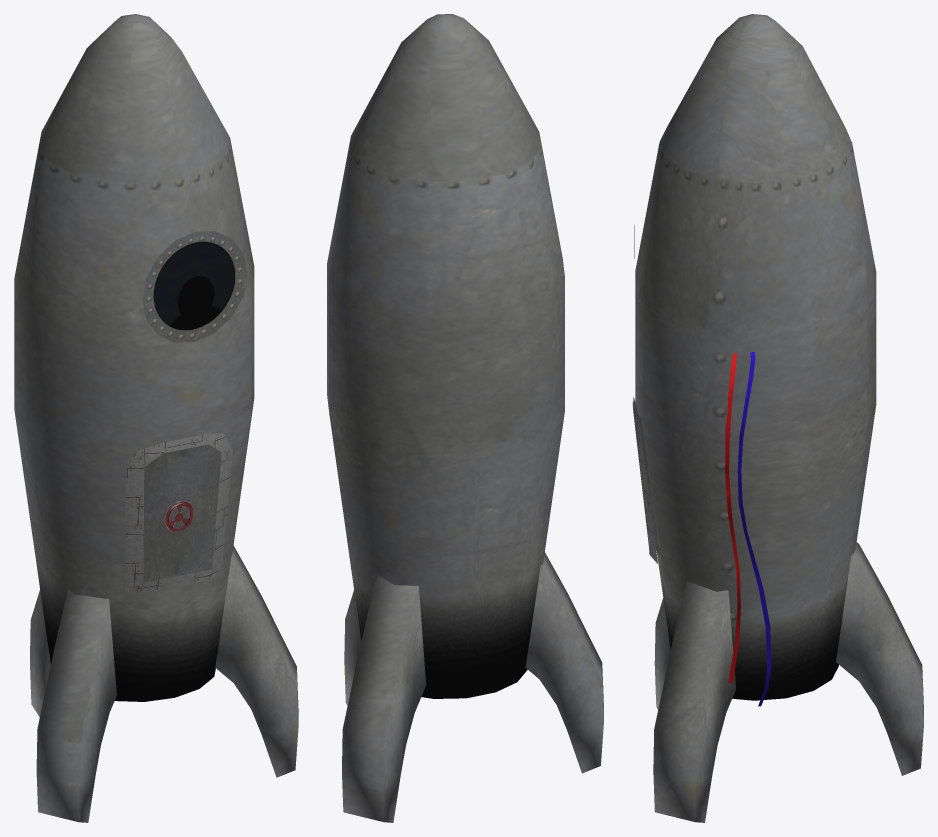
The model's file is rocket_lo.glb.
3 renders of one model, left to right at view 1: azimuth 30°, elevation 25°; view 2: azimuth 150°, elevation 25°; view 3: azimuth 270°, elevation 25°, orthographic.
Parts seen in each view (by area): view 1: shipthing2.png__, door.JPG__, window.jpg__, metaloverlap.png__; view 2: shipthing2.png__; view 3: shipthing2.png__, wires.jpg__, metaloverlap.png__.
Part boxes in pixels (x1,y1,x2,y2): shipthing2.png__: (14, 14, 298, 822); door.JPG__: (134, 444, 221, 582); window.jpg__: (142, 231, 247, 342); metaloverlap.png__: (125, 433, 232, 592); shipthing2.png__: (327, 14, 603, 822); shipthing2.png__: (635, 14, 923, 822); wires.jpg__: (725, 352, 771, 706); metaloverlap.png__: (633, 397, 657, 563).
Size of the model in its own units: 5.51 by 15.17 by 5.35.
Materials: 5 (5 with a texture image).
